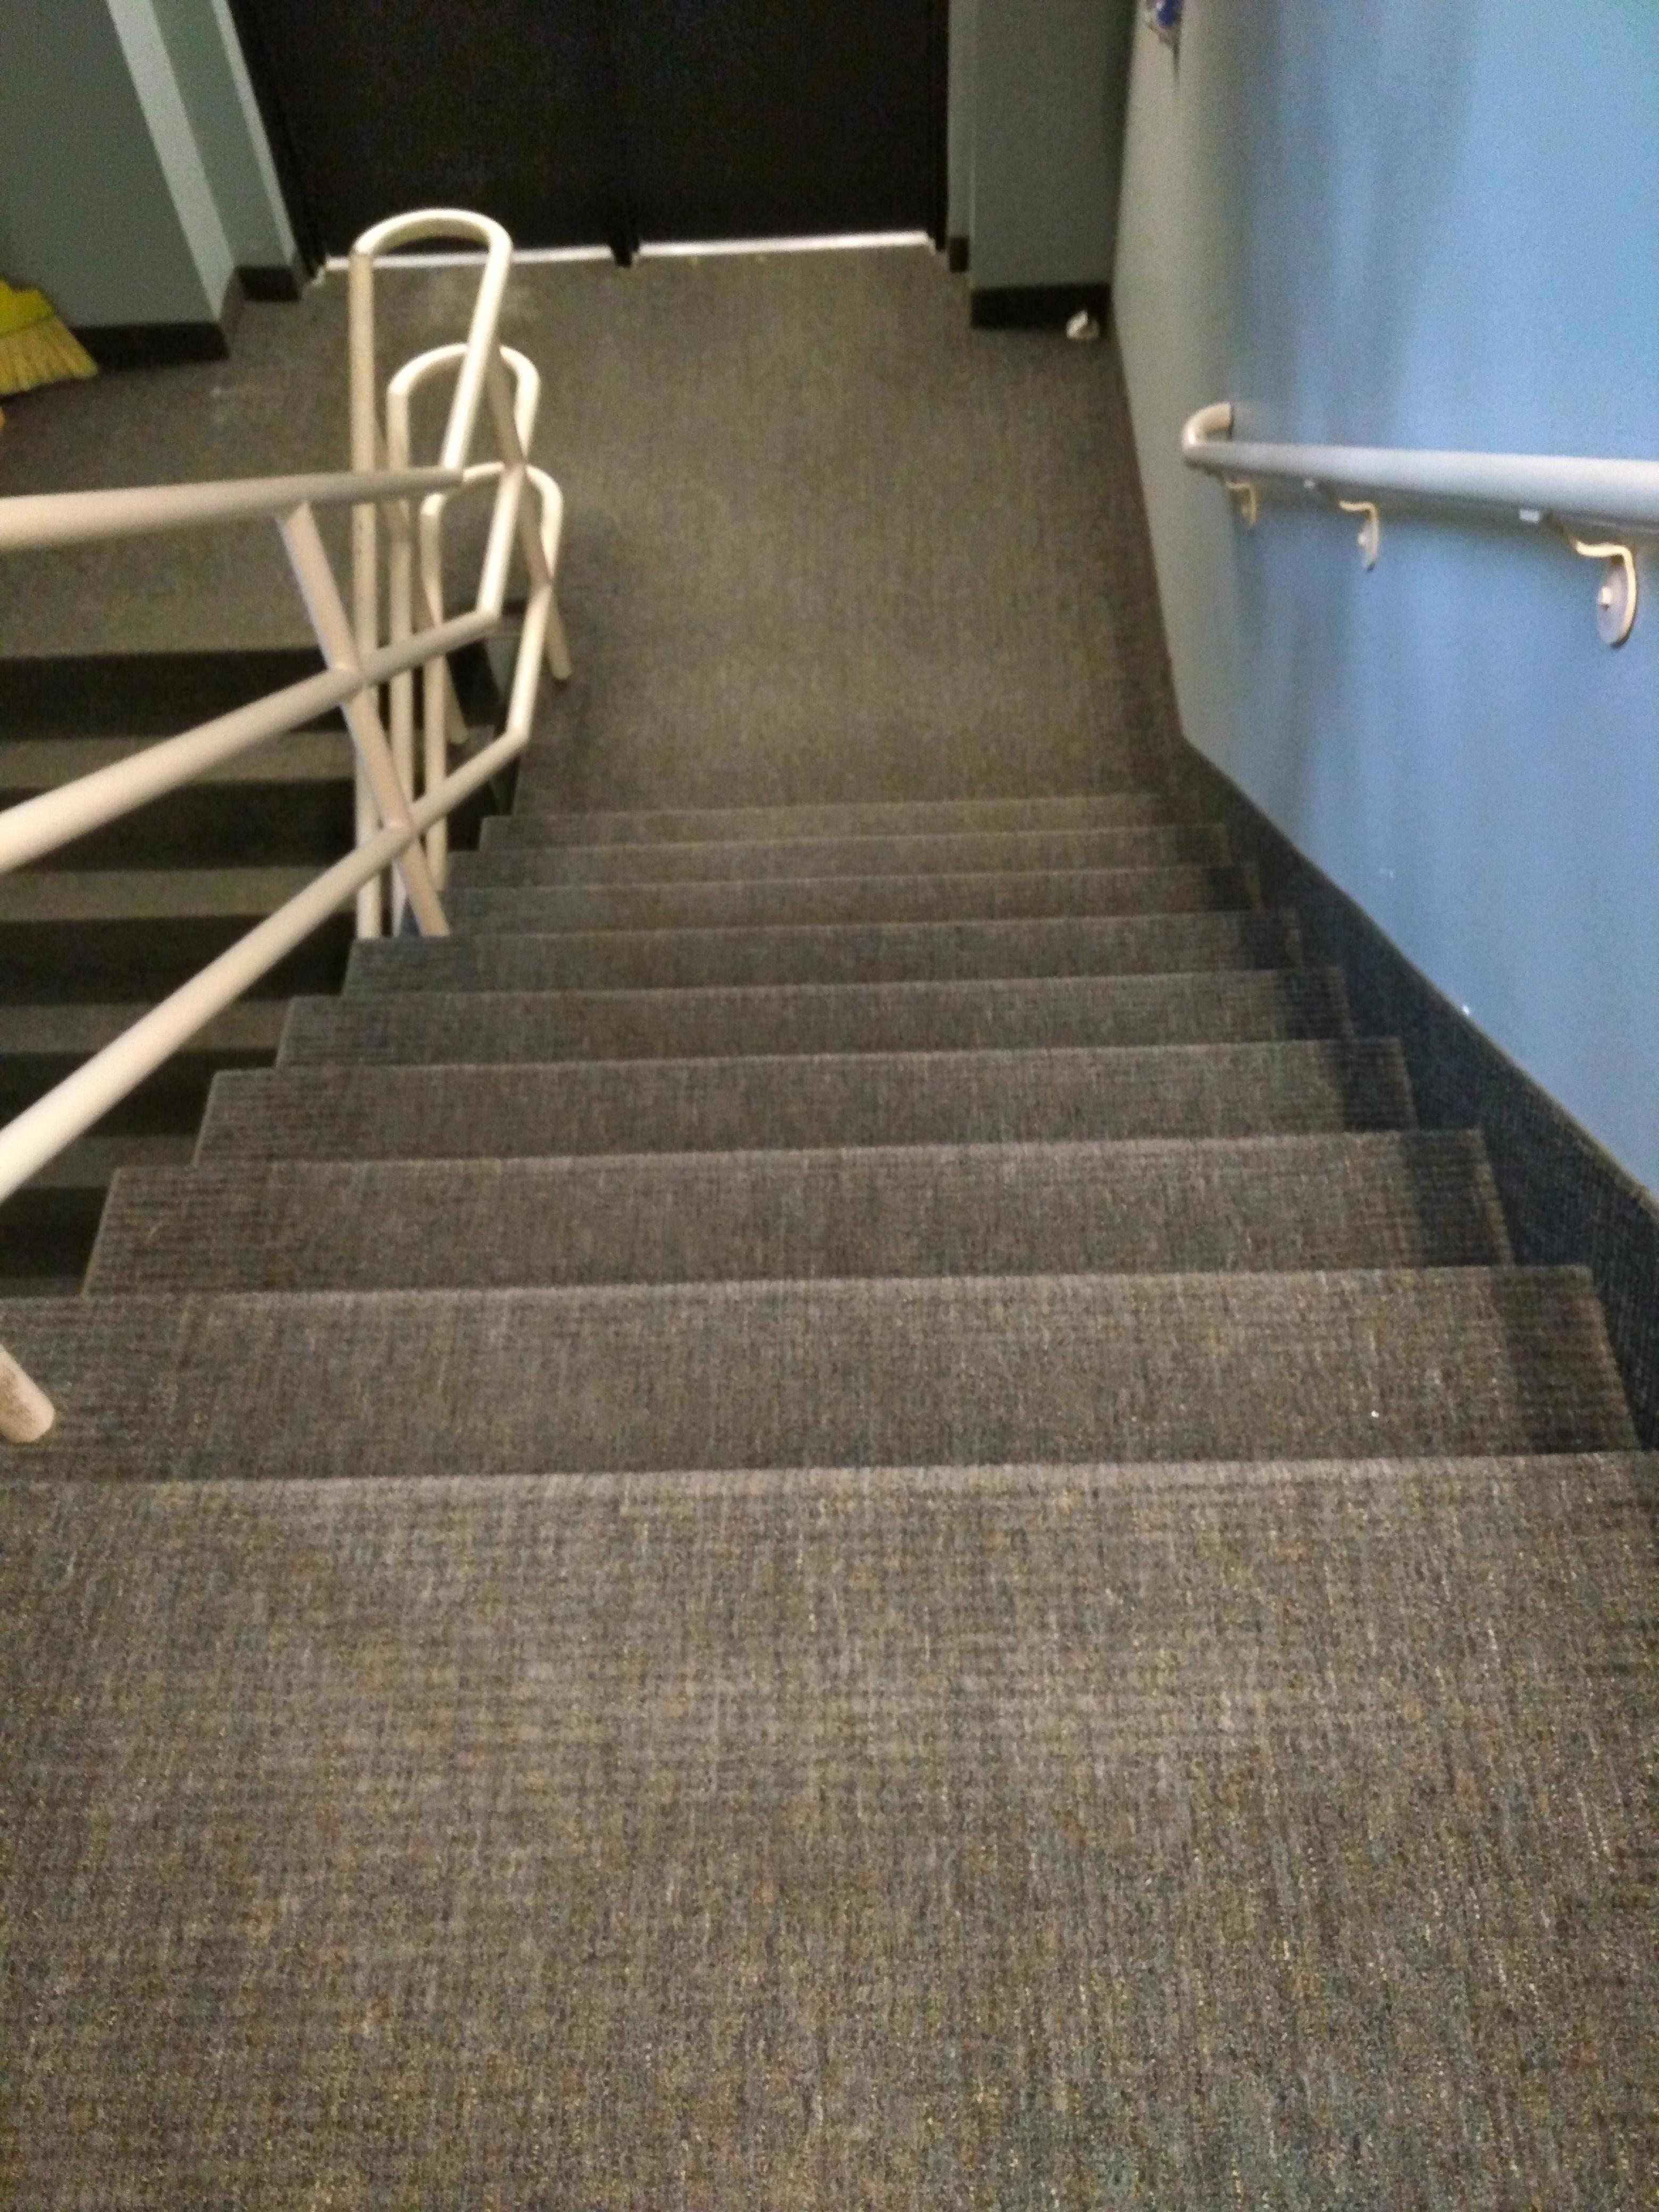stairs_down: (0, 773, 1631, 1622)
